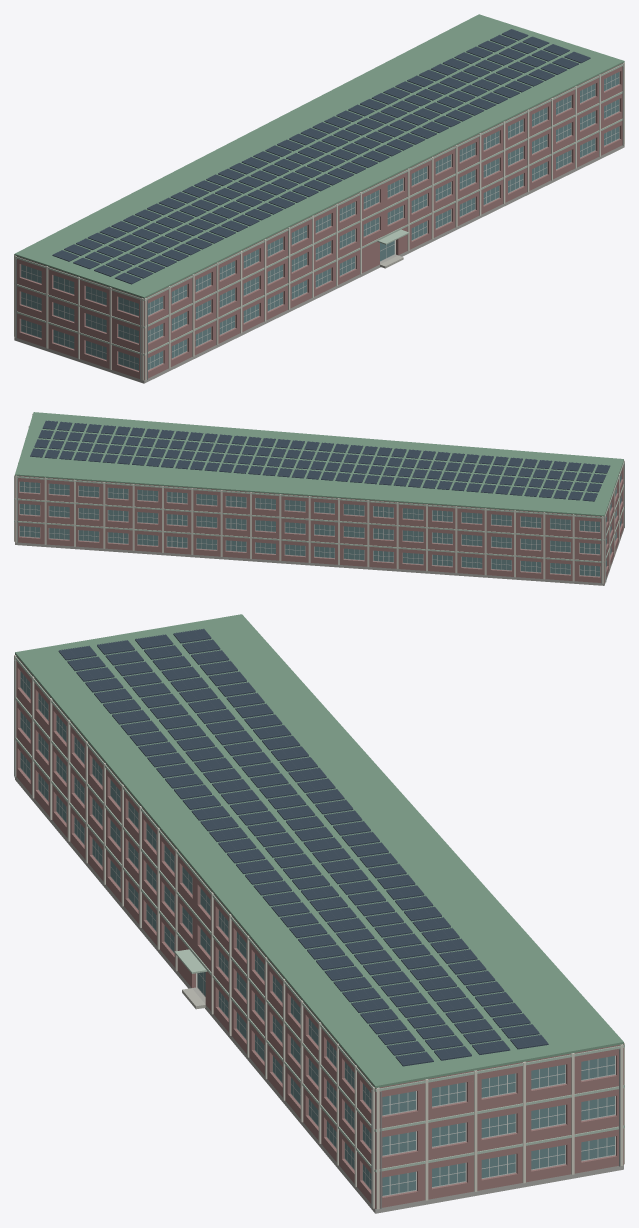
The picture shows the model from 3 angles, top to bottom: view 1: azimuth 30°, elevation 25°; view 2: azimuth 150°, elevation 25°; view 3: azimuth 270°, elevation 25°; orthographic projection. The views are drawn at different scales.
Visible parts, largest first — view 1: northlong__roof, northlong__brick, northlong__solar, northlong__glass, northlong__frame, northlong__cream, northlong__pvrail, northlong__trim, northlong__floor-structure, northlong__solar-grid; view 2: northlong__brick, northlong__roof, northlong__solar, northlong__glass, northlong__frame, northlong__cream, northlong__trim, northlong__pvrail, northlong__floor-structure, northlong__solar-grid, northlong__metal; view 3: northlong__roof, northlong__solar, northlong__brick, northlong__glass, northlong__cream, northlong__pvrail, northlong__frame, northlong__trim, northlong__floor-structure, northlong__solar-grid, northlong__metal.
Part boxes in pixels (left/top/right/bottom): northlong__roof: left=14, top=14, right=624, bottom=298; northlong__brick: left=16, top=63, right=622, bottom=380; northlong__solar: left=52, top=29, right=590, bottom=284; northlong__glass: left=21, top=72, right=619, bottom=370; northlong__frame: left=20, top=72, right=619, bottom=370; northlong__cream: left=14, top=62, right=624, bottom=380; northlong__pvrail: left=53, top=29, right=590, bottom=282; northlong__trim: left=14, top=64, right=623, bottom=355; northlong__floor-structure: left=14, top=145, right=624, bottom=383; northlong__solar-grid: left=60, top=31, right=583, bottom=280; northlong__brick: left=15, top=464, right=623, bottom=583; northlong__roof: left=15, top=412, right=623, bottom=516; northlong__solar: left=30, top=420, right=610, bottom=501; northlong__glass: left=20, top=473, right=621, bottom=576; northlong__frame: left=19, top=479, right=621, bottom=576; northlong__cream: left=14, top=413, right=624, bottom=583; northlong__trim: left=14, top=462, right=624, bottom=562; northlong__pvrail: left=30, top=420, right=609, bottom=500; northlong__floor-structure: left=15, top=528, right=623, bottom=585; northlong__solar-grid: left=36, top=423, right=603, bottom=498; northlong__metal: left=14, top=463, right=624, bottom=583; northlong__roof: left=15, top=614, right=623, bottom=1088; northlong__solar: left=58, top=629, right=548, bottom=1066; northlong__brick: left=15, top=654, right=623, bottom=1208; northlong__glass: left=20, top=671, right=614, bottom=1195; northlong__cream: left=14, top=655, right=624, bottom=1209; northlong__pvrail: left=59, top=628, right=548, bottom=1064; northlong__frame: left=20, top=671, right=615, bottom=1196; northlong__trim: left=15, top=657, right=624, bottom=1172; northlong__floor-structure: left=15, top=777, right=623, bottom=1213; northlong__solar-grid: left=69, top=631, right=536, bottom=1062; northlong__metal: left=14, top=660, right=620, bottom=1208.
Size of the model in its own units: 85.62 by 11.08 by 46.76.
